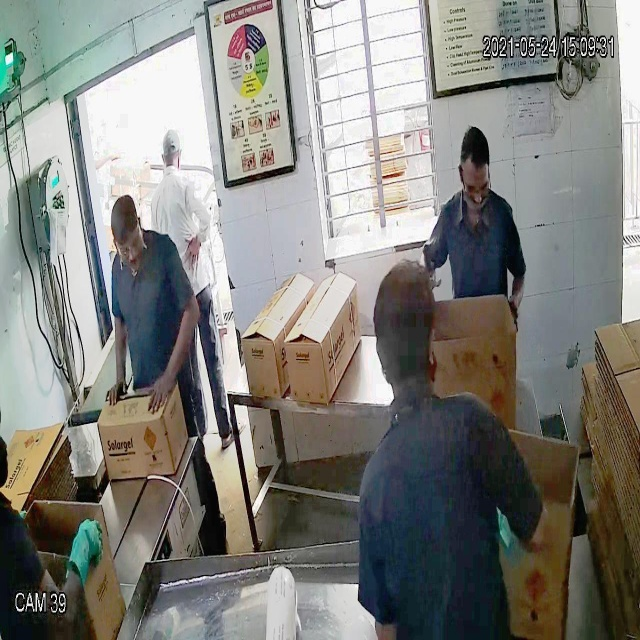Gafas: (459, 165, 494, 205), (111, 230, 147, 264)
